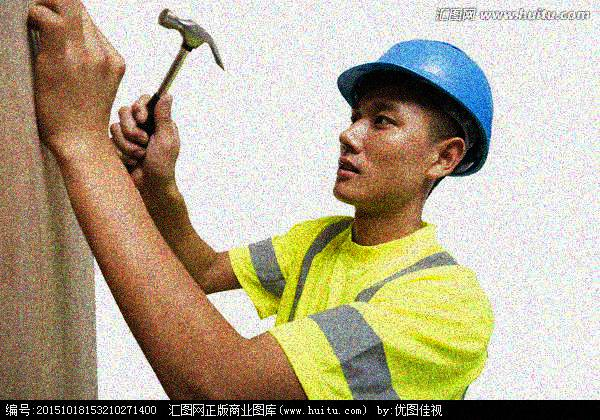helmet: (332, 38, 497, 206)
